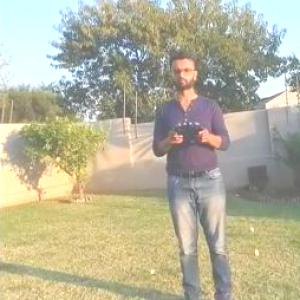follow: (145, 46, 239, 299)
